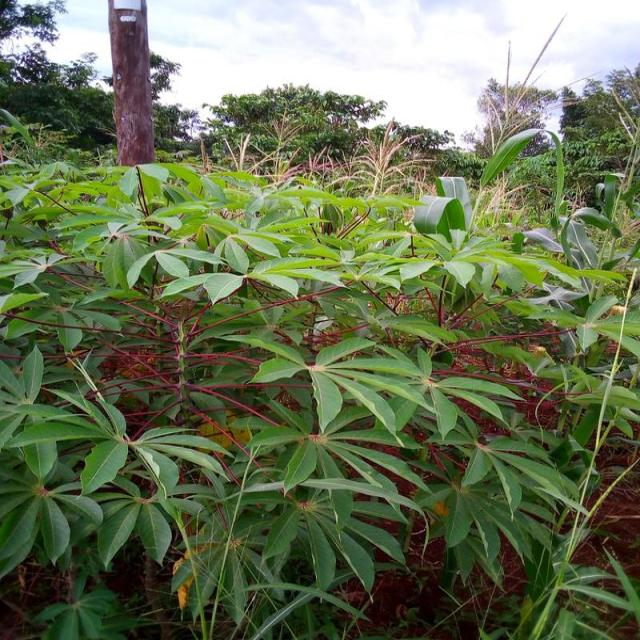cassava leaf: (0, 121, 638, 638)
